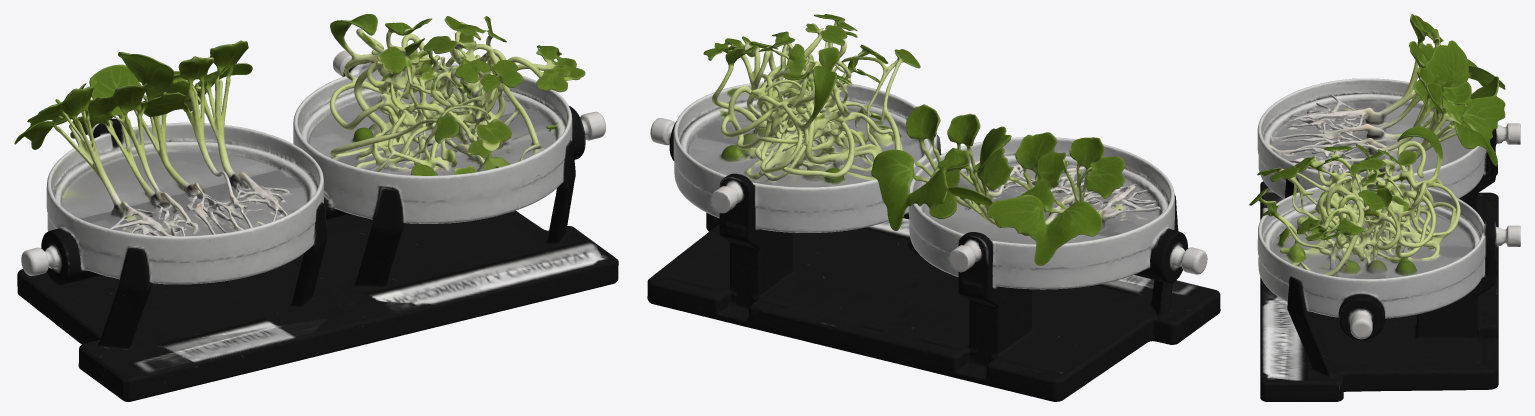
File: seed_14day.glb
The picture shows the model from 3 angles, left to right: view 1: azimuth 30°, elevation 25°; view 2: azimuth 150°, elevation 25°; view 3: azimuth 270°, elevation 25°; orthographic projection. The views are drawn at different scales.
Bounding box in the file's own units: 1.9 × 0.7654 × 0.9245.
1 material, 1 textured.
